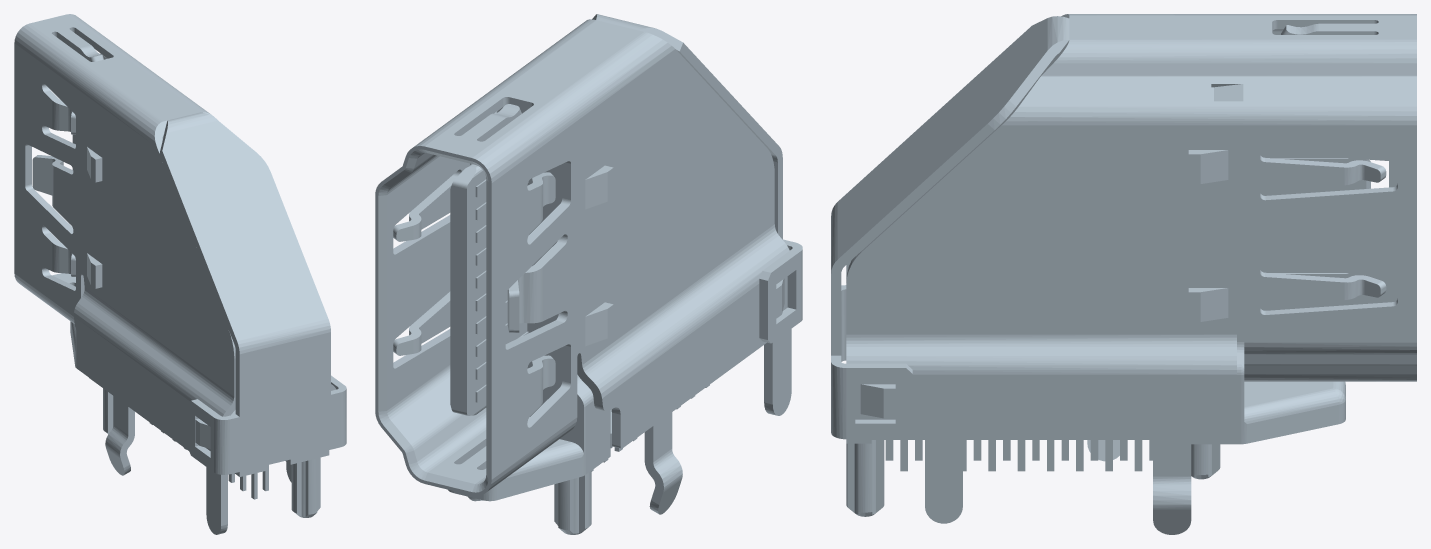
File: beagleplay-hdmi.glb
3 renders of one model, left to right at view 1: azimuth 30°, elevation 25°; view 2: azimuth 150°, elevation 25°; view 3: azimuth 270°, elevation 25°, orthographic. The views are drawn at different scales.
Parts seen in each view (by area): view 1: HDMI19P_1D155_23_1X7_7X16_4MM; view 2: HDMI19P_1D155_23_1X7_7X16_4MM; view 3: HDMI19P_1D155_23_1X7_7X16_4MM.
Part boxes in pixels (x1,y1,x2,y2): HDMI19P_1D155_23_1X7_7X16_4MM: (14,14,346,534); HDMI19P_1D155_23_1X7_7X16_4MM: (375,14,802,534); HDMI19P_1D155_23_1X7_7X16_4MM: (831,14,1416,534).
Bounding box in the file's own units: 7.88 × 20.14 × 23.1.
